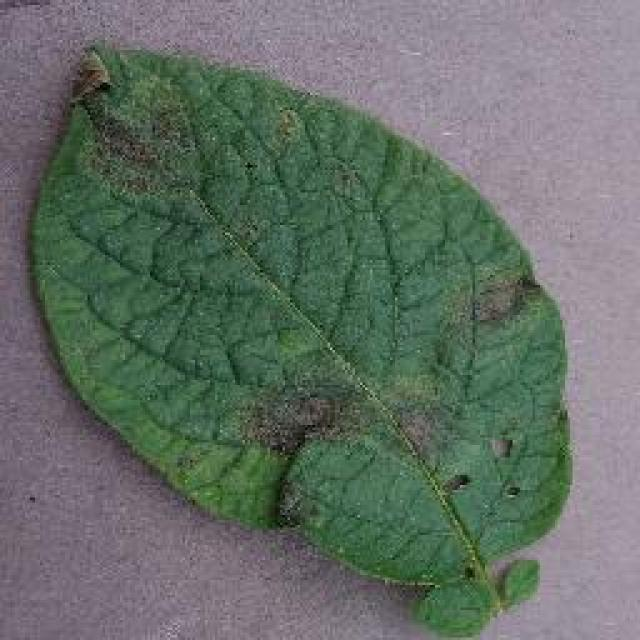Potato: (25, 35, 573, 637)
